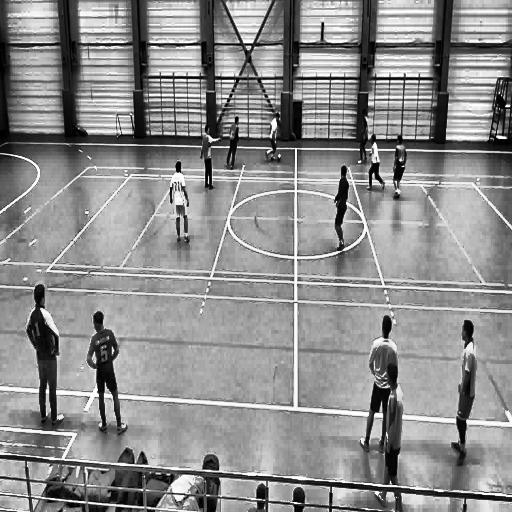ball: (276, 152, 282, 162)
player: (25, 284, 66, 432), (88, 308, 129, 439), (373, 364, 404, 511), (365, 313, 394, 464), (456, 319, 476, 469), (168, 164, 194, 246), (199, 123, 223, 189), (333, 164, 349, 255), (390, 134, 408, 199), (366, 136, 386, 193), (226, 113, 240, 173), (264, 110, 279, 163), (358, 107, 370, 164)
